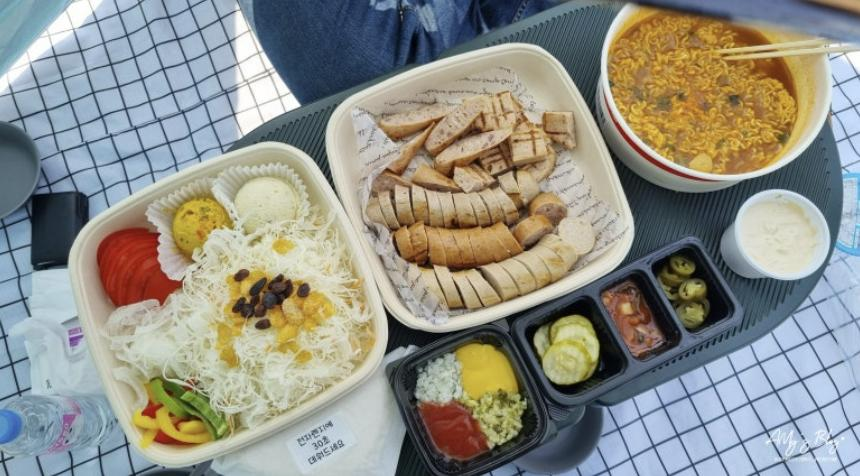Bottle: (0, 394, 121, 455)
Lunch Box: (69, 143, 387, 466), (326, 44, 632, 331), (596, 4, 859, 191), (511, 237, 741, 406), (213, 346, 416, 475), (386, 319, 550, 475)
cup: (720, 189, 829, 280), (0, 121, 40, 218)
